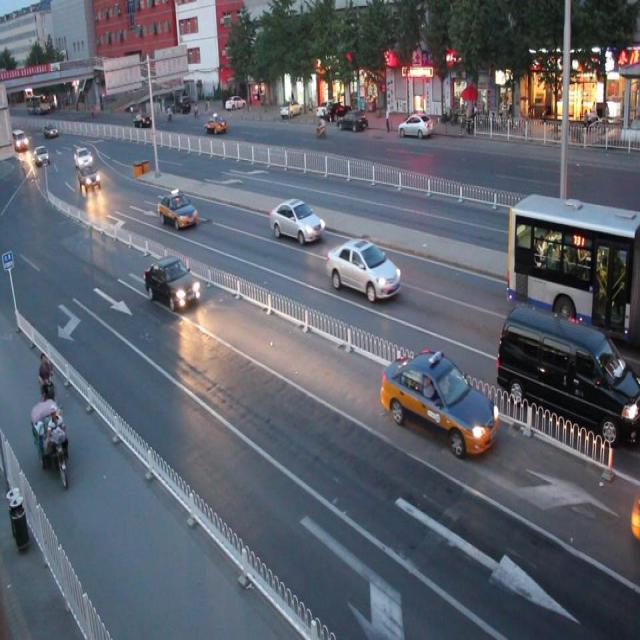car: (380, 349, 498, 455), (326, 238, 401, 299), (144, 255, 199, 309), (269, 198, 323, 244), (159, 189, 197, 231)
truck: (498, 305, 640, 448)
van: (507, 195, 640, 341)
